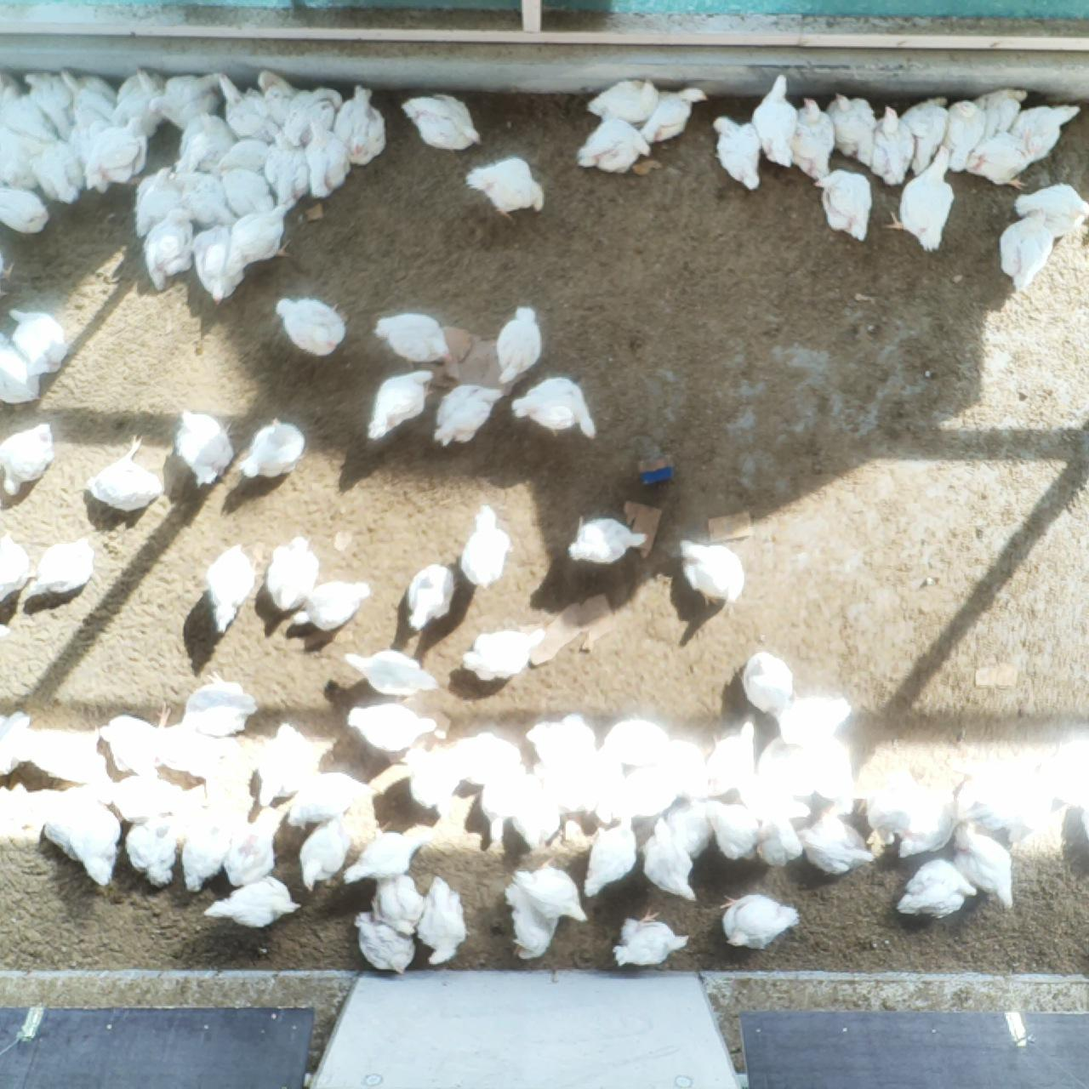chicken: (40, 784, 122, 892), (880, 142, 956, 254), (83, 432, 165, 515), (509, 373, 600, 443), (342, 818, 434, 886), (955, 820, 1019, 914), (254, 720, 322, 808), (203, 871, 303, 930), (98, 701, 174, 778), (512, 855, 591, 928), (865, 761, 923, 860), (463, 154, 546, 223), (181, 668, 261, 738), (998, 206, 1058, 298), (363, 368, 437, 442), (341, 645, 440, 700), (84, 114, 150, 195), (416, 871, 471, 968), (156, 722, 247, 780), (398, 90, 483, 152), (147, 70, 230, 133), (174, 406, 237, 489), (285, 770, 372, 830), (459, 624, 549, 682), (223, 805, 285, 889), (204, 540, 259, 634), (892, 858, 974, 921), (810, 166, 875, 245), (271, 294, 351, 358), (502, 880, 561, 966), (718, 890, 801, 951), (141, 203, 196, 295), (190, 222, 248, 309), (331, 83, 391, 167), (963, 128, 1043, 191), (611, 905, 691, 968), (677, 536, 746, 609), (457, 503, 514, 591), (643, 818, 702, 903), (895, 782, 958, 861), (223, 207, 294, 277), (238, 415, 308, 484), (432, 383, 507, 447), (346, 702, 438, 754), (262, 535, 324, 612), (28, 535, 98, 603), (583, 813, 639, 898), (801, 814, 877, 876), (575, 114, 652, 175), (216, 66, 276, 144), (372, 311, 454, 368), (1013, 181, 1089, 241), (751, 71, 797, 170), (97, 773, 186, 824), (297, 812, 353, 893), (292, 578, 374, 633), (278, 84, 346, 150), (566, 514, 650, 567), (0, 421, 57, 499), (605, 765, 681, 823), (122, 816, 181, 889), (7, 306, 70, 374), (524, 712, 599, 769), (897, 94, 949, 176), (807, 736, 859, 818), (788, 95, 838, 180), (710, 113, 763, 193), (352, 911, 417, 976), (732, 647, 795, 713), (180, 812, 230, 895), (704, 720, 757, 798), (263, 128, 312, 212), (586, 75, 660, 130), (369, 867, 426, 938), (494, 302, 543, 384), (642, 84, 709, 143), (870, 101, 917, 185), (512, 772, 563, 848), (405, 561, 457, 635), (175, 108, 234, 173), (827, 91, 878, 166), (112, 66, 168, 134), (174, 169, 238, 228), (703, 798, 762, 862), (734, 775, 814, 822), (305, 127, 354, 203), (971, 779, 1038, 834), (784, 691, 853, 744), (756, 731, 814, 794), (400, 745, 456, 810), (31, 140, 86, 206), (1035, 738, 1089, 805), (134, 163, 182, 238), (599, 717, 671, 767), (536, 759, 601, 814), (1017, 102, 1084, 155), (453, 730, 525, 779), (0, 329, 43, 407), (656, 737, 711, 797), (204, 750, 257, 812), (942, 99, 985, 174), (62, 65, 118, 121), (975, 85, 1030, 141), (476, 774, 520, 843), (220, 166, 276, 220), (0, 94, 59, 144), (24, 68, 77, 119), (0, 184, 51, 236), (668, 798, 715, 854), (255, 68, 296, 131), (0, 707, 35, 779), (0, 530, 32, 608), (213, 138, 270, 176), (0, 132, 38, 187), (733, 842, 740, 842)
